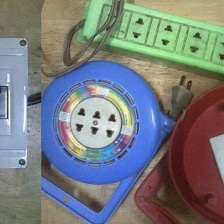three_eye_plug: (31, 53, 180, 206), (128, 76, 223, 224), (74, 0, 224, 88)
